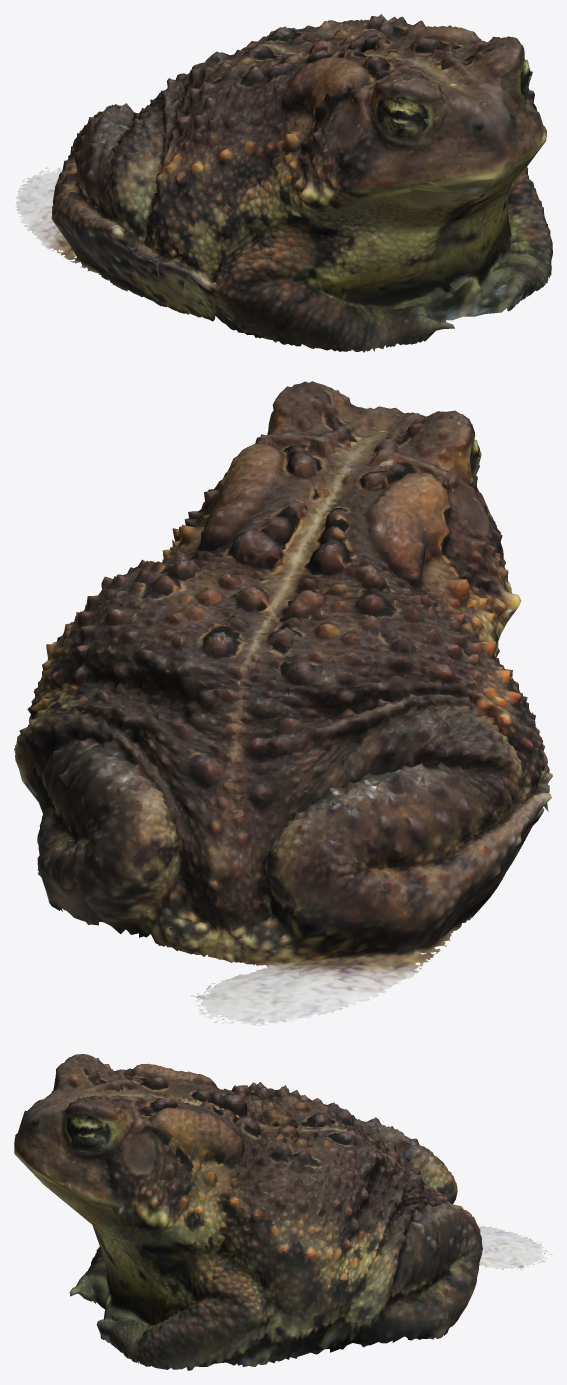
Rendered from toad.glb.
The picture shows the model from 3 angles, top to bottom: view 1: azimuth 30°, elevation 25°; view 2: azimuth 150°, elevation 25°; view 3: azimuth 270°, elevation 25°; orthographic projection. The views are drawn at different scales.
Visible parts, largest first — view 1: Fowlers toad 1 reduced-1M; view 2: Fowlers toad 1 reduced-1M; view 3: Fowlers toad 1 reduced-1M.
Boxes of the visible parts, x1,y1,x2,y2 form: Fowlers toad 1 reduced-1M: (15, 14, 552, 352); Fowlers toad 1 reduced-1M: (14, 381, 552, 1025); Fowlers toad 1 reduced-1M: (14, 1054, 552, 1370).
Bounding box in the file's own units: 0.7287 × 0.4879 × 1.
Materials: 1 (1 with a texture image).
